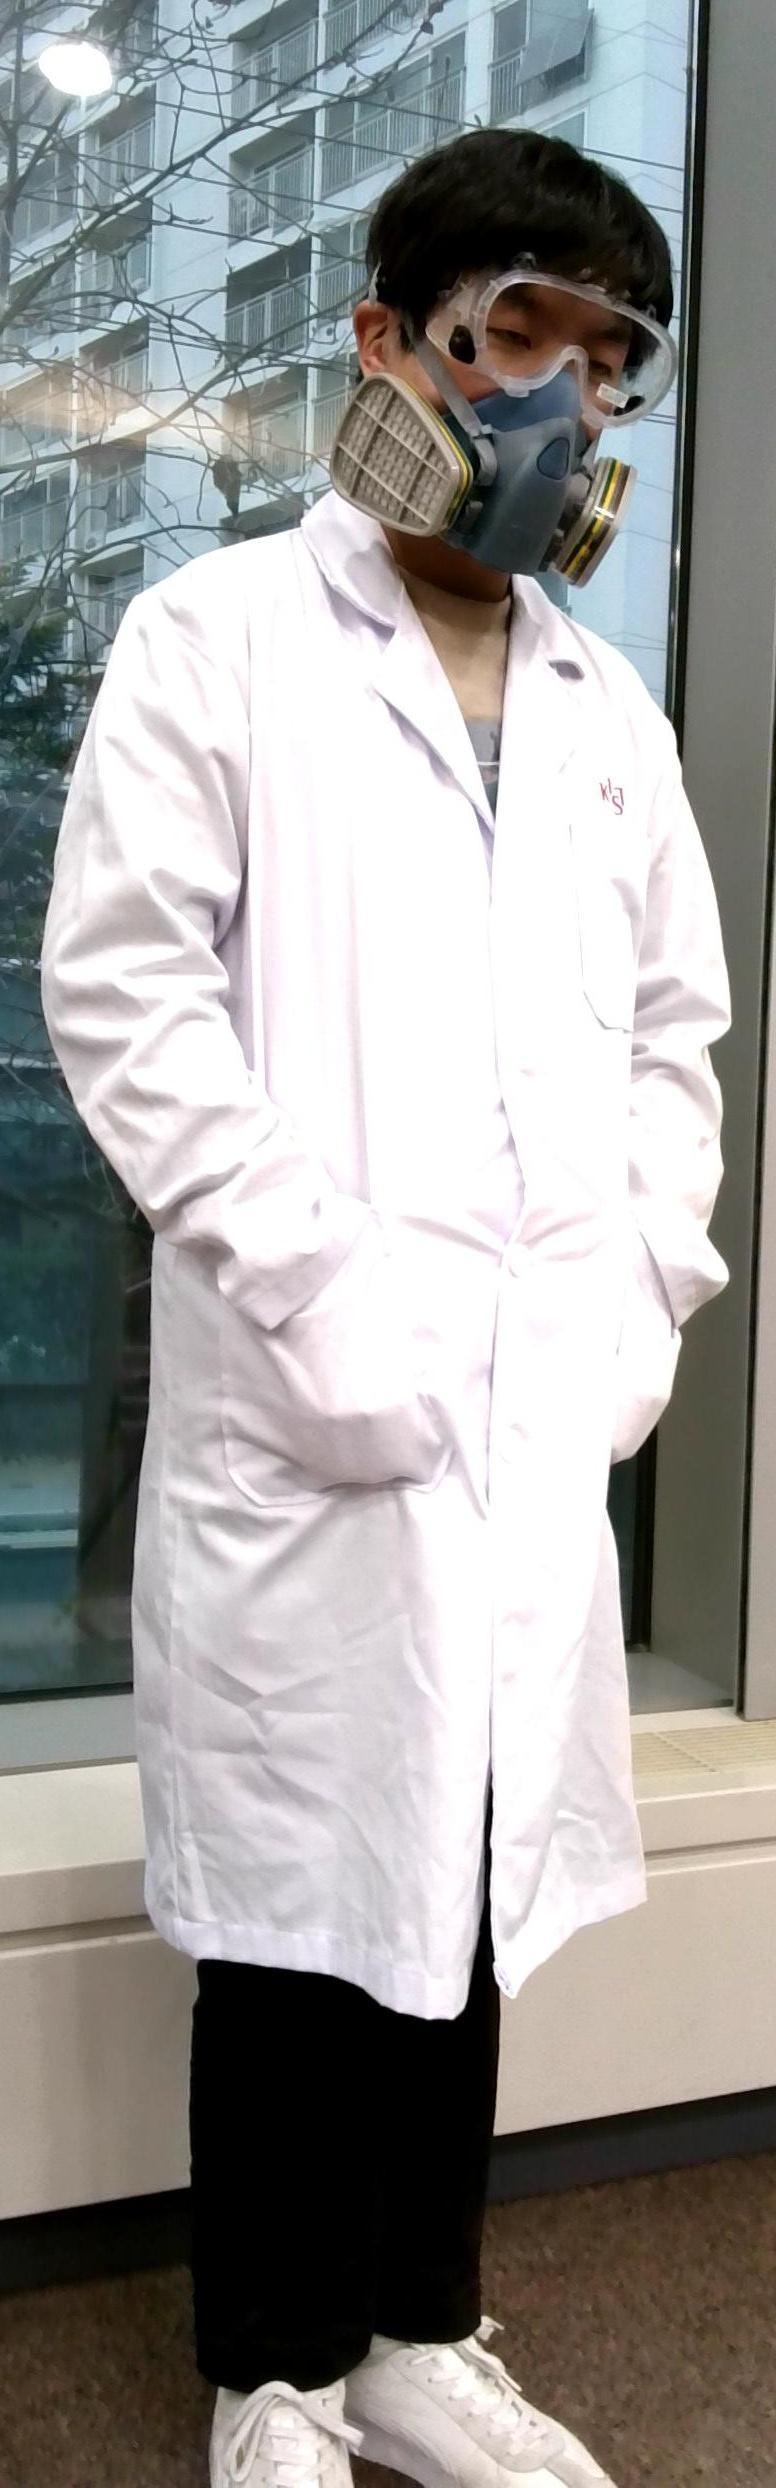lab_coat: (21, 566, 716, 1974)
